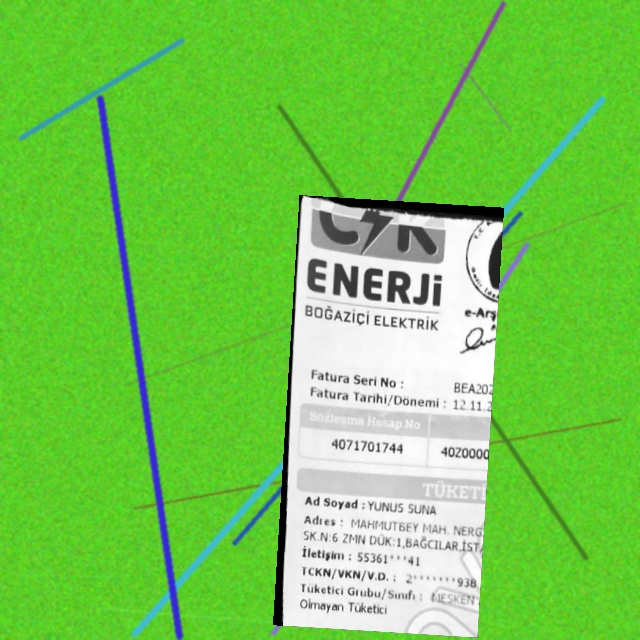electricity-bill: (272, 195, 504, 637)
